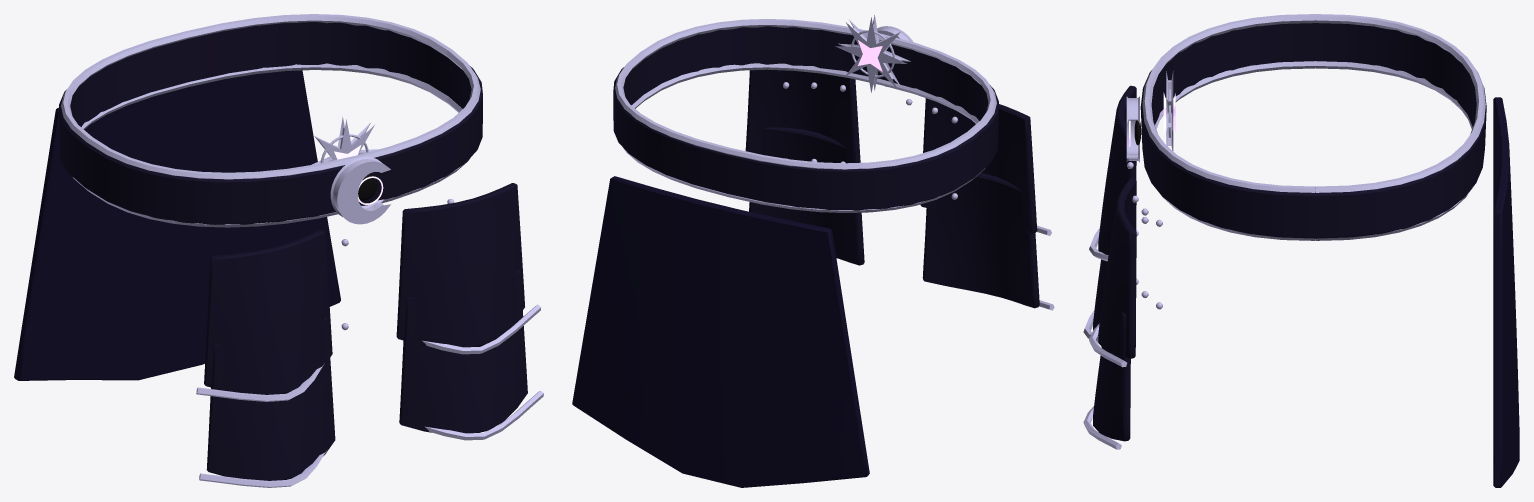
Rendered from asc_nightsky_reaver_inner.glb.
3 renders of one model, left to right at view 1: azimuth 30°, elevation 25°; view 2: azimuth 150°, elevation 25°; view 3: azimuth 270°, elevation 25°, orthographic. The views are drawn at different scales.
Visible parts, largest first — view 1: asc_nightsky_reaver_inner, AT_thigh_R, AT_thigh_L; view 2: asc_nightsky_reaver_inner, AT_thigh_R, AT_thigh_L; view 3: asc_nightsky_reaver_inner, AT_thigh_L, AT_thigh_R.
Part boxes in pixels (x1,y1,x2,y2): asc_nightsky_reaver_inner: (14,14,482,380); AT_thigh_R: (196,230,348,487); AT_thigh_L: (396,183,543,440); asc_nightsky_reaver_inner: (572,15,998,487); AT_thigh_R: (906,98,1054,310); AT_thigh_L: (745,69,864,265); asc_nightsky_reaver_inner: (1126,14,1519,487); AT_thigh_L: (1083,178,1162,449); AT_thigh_R: (1083,85,1148,342).
Size of the model in its own units: 0.4641 by 0.4554 by 0.4788.
